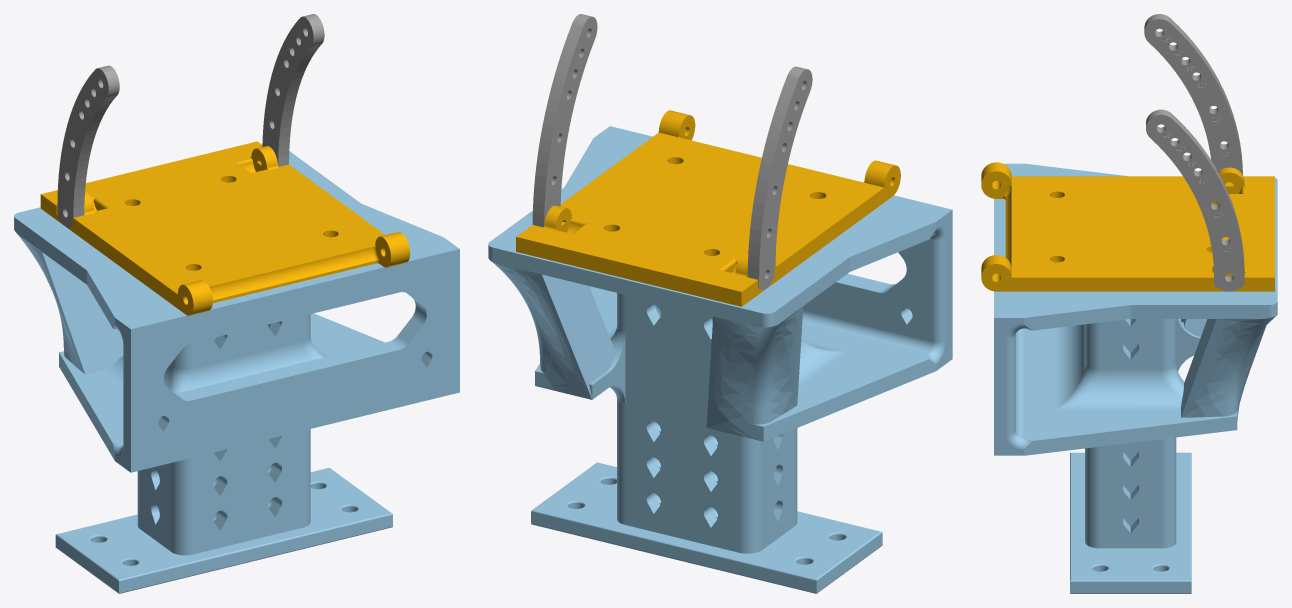
Rendered from sensor_mount.dae.
3 renders of one model, left to right at view 1: azimuth 30°, elevation 25°; view 2: azimuth 150°, elevation 25°; view 3: azimuth 270°, elevation 25°, orthographic. The views are drawn at different scales.
Parts seen in each view (by area): view 1: node1, node0, node3, node2, node4; view 2: node1, node0, node3, node2, node4; view 3: node1, node0, node3, node4, node2.
Boxes of the visible parts, bbox=[...] form: node1: bbox=[14, 151, 459, 555]; node0: bbox=[40, 141, 410, 315]; node3: bbox=[55, 439, 392, 593]; node2: bbox=[57, 65, 119, 228]; node4: bbox=[262, 14, 324, 166]; node1: bbox=[488, 126, 952, 553]; node0: bbox=[516, 110, 900, 306]; node3: bbox=[531, 422, 882, 593]; node2: bbox=[747, 66, 812, 290]; node4: bbox=[532, 14, 597, 227]; node1: bbox=[994, 163, 1277, 548]; node0: bbox=[981, 162, 1274, 291]; node3: bbox=[1070, 447, 1191, 593]; node4: bbox=[1146, 109, 1244, 291]; node2: bbox=[1144, 14, 1242, 174].
Bounding box in the file's own units: 0.12 × 0.0974 × 0.169.
